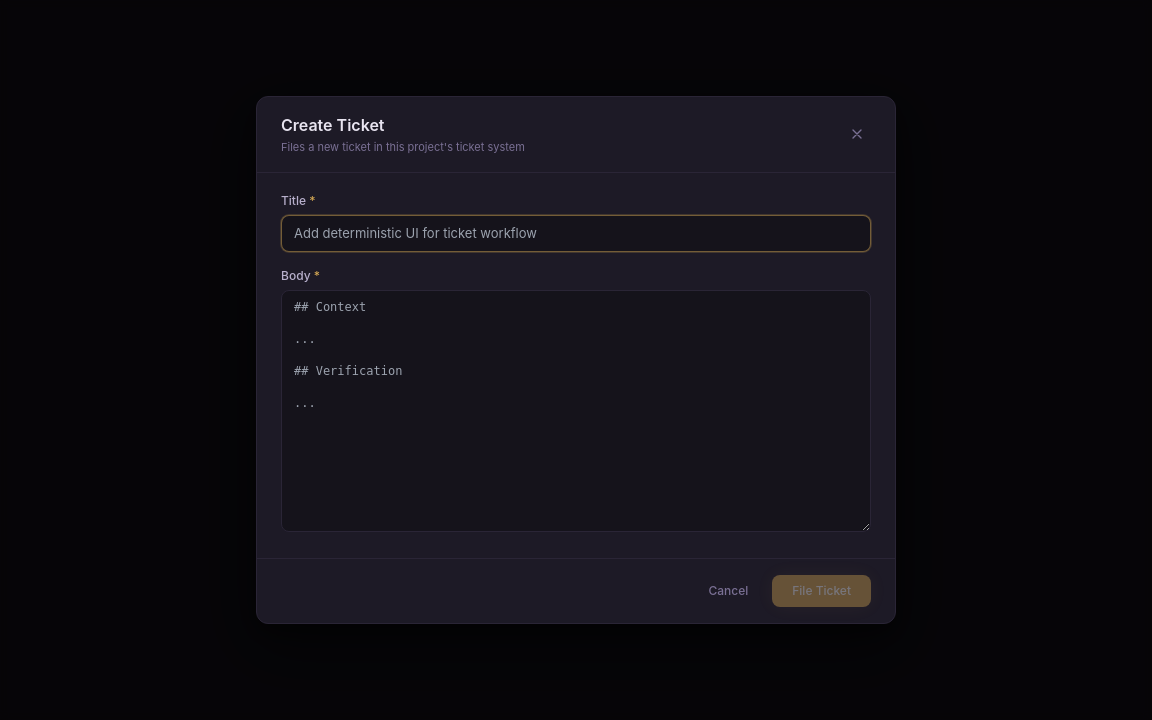
Test case: CreateTicketDialog › files the ticket via tickets.create with the project dir + trimmed values
In the field with test id "create-ticket-title": (576,233) left=281, top=214, right=871, bottom=252, type "  My Title  "
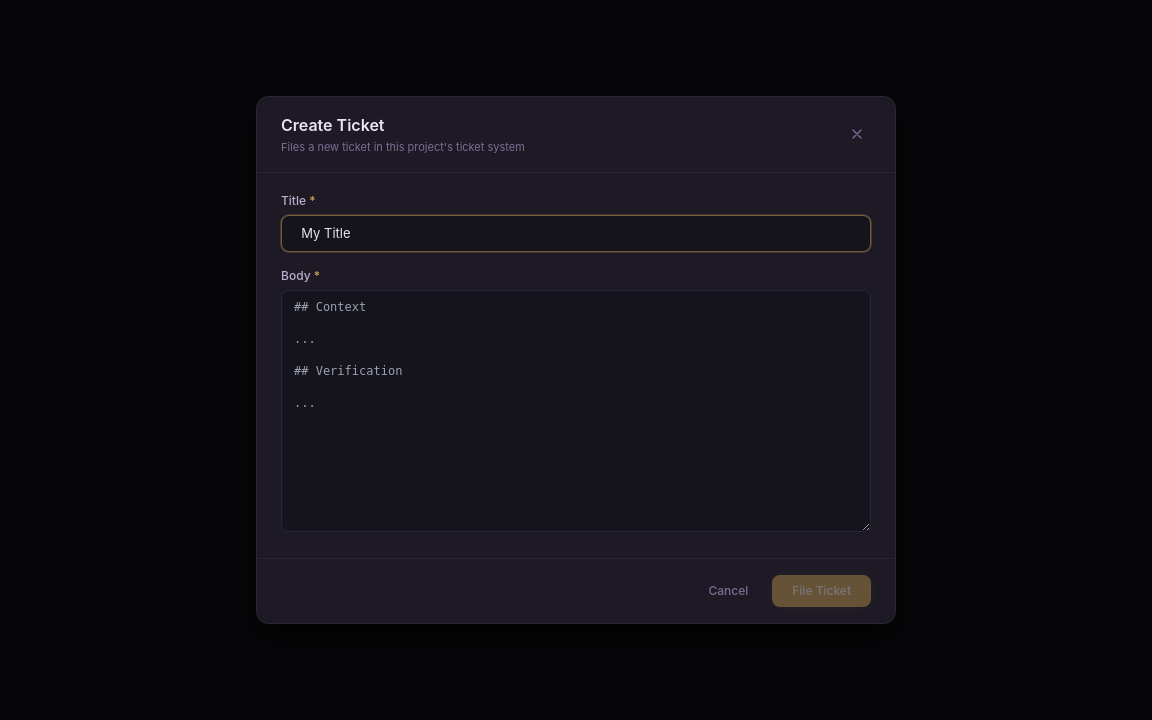
In the text box with test id "create-ticket-body": (576,411) left=281, top=290, right=871, bottom=532, type "  My Body  "
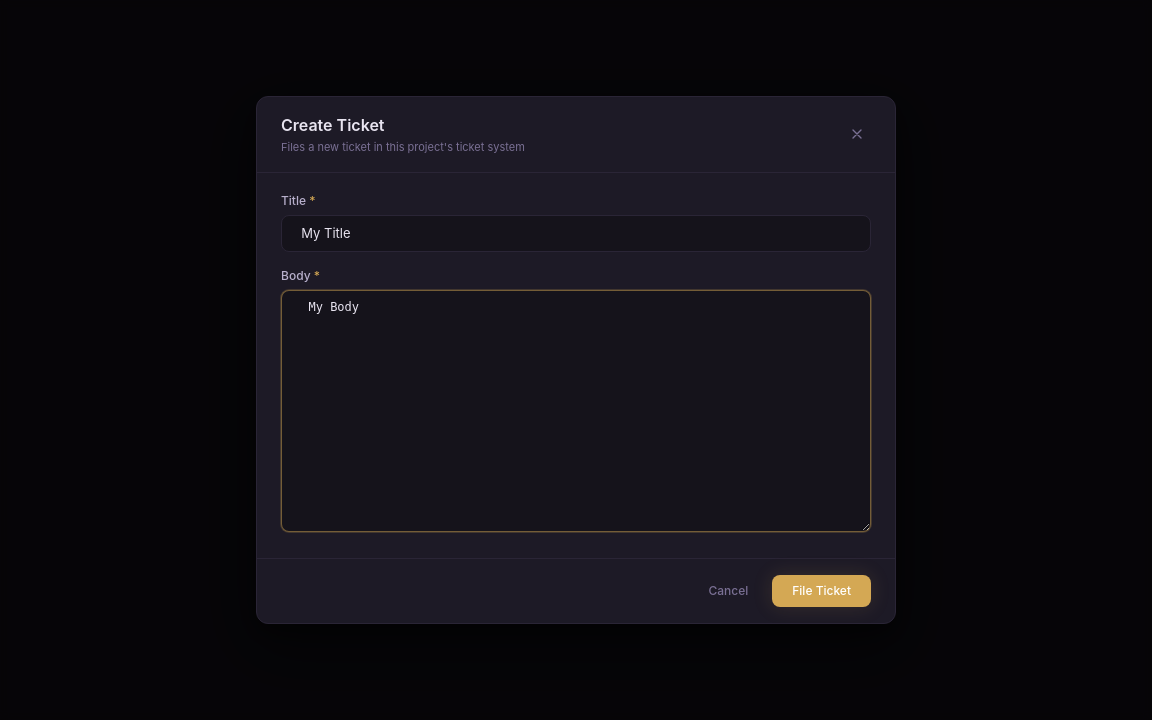
Click the button with test id "create-ticket-submit": (822,591) left=772, top=575, right=871, bottom=607
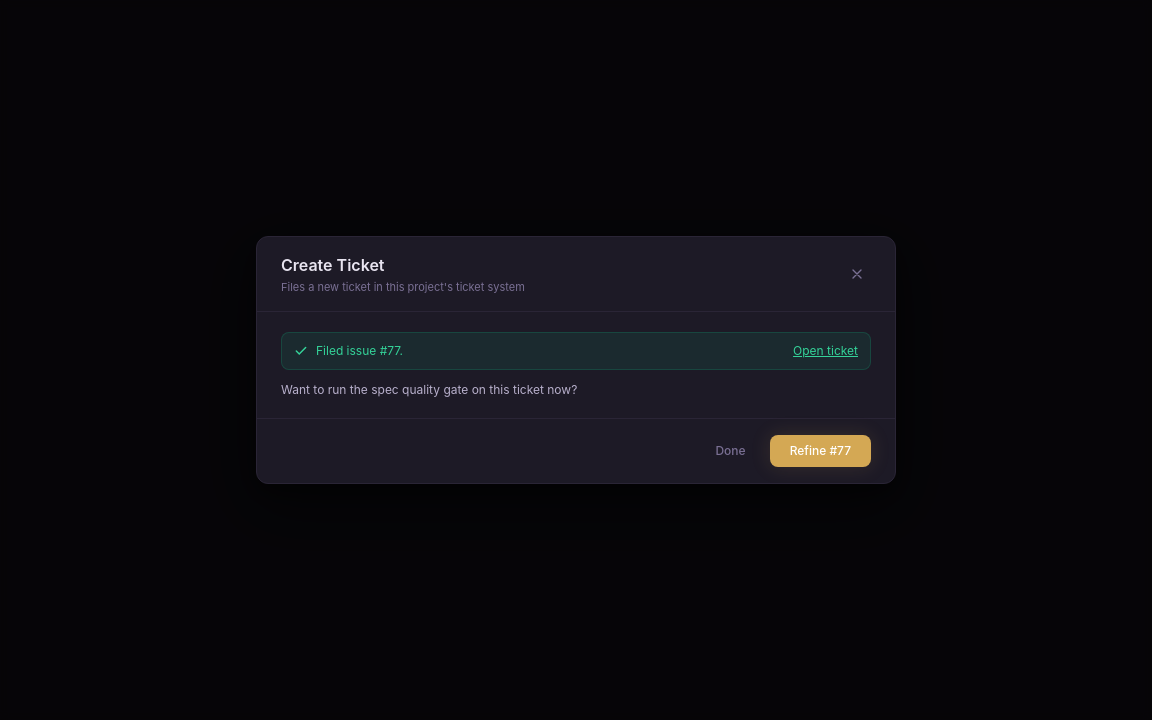
Result: the element with test id "create-ticket-success" is shown at left=281, top=332, right=871, bottom=398
Result: the text "Filed issue #77. Open ticket" is shown at left=281, top=332, right=871, bottom=370
